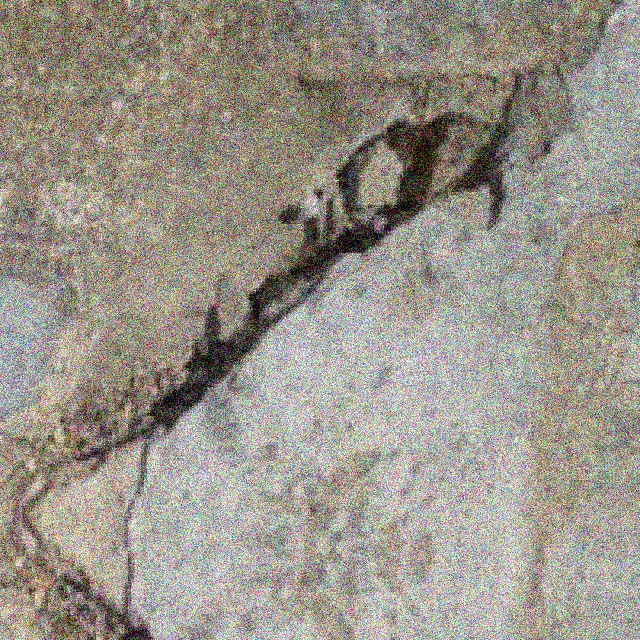SurfaceCrack: (102, 86, 546, 432)
